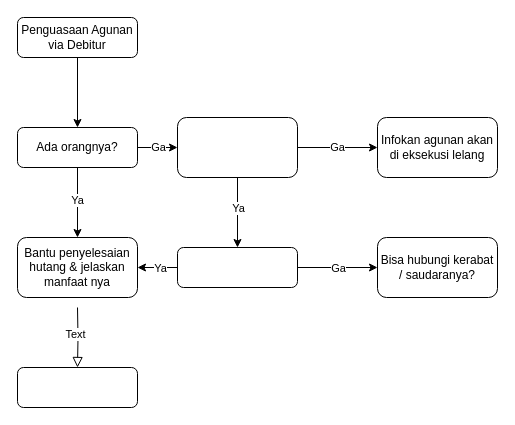
Some shapes in this 515 by 425 pixel diagram are drawn without their labels. The centre of each missing label's shape, as x and y in pixels:
"Bisa hubungi orangnya?" goes at point 237,267.
"Repair Lamp" goes at point 77,387.
"RT & lingkungan tahu pemiliknya?" goes at point 237,147.
